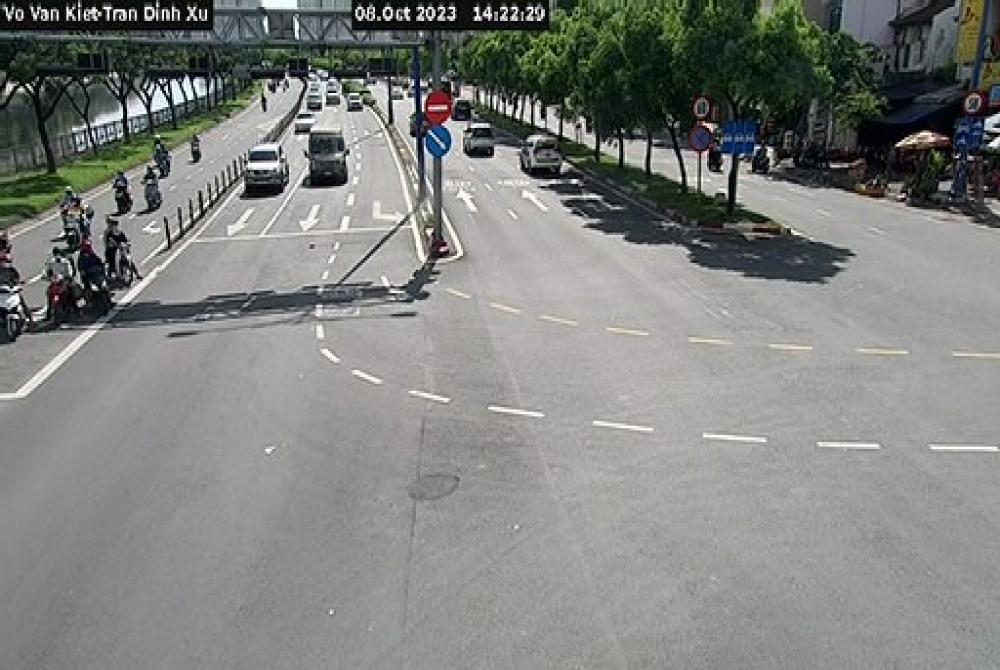car: (299, 124, 357, 194), (244, 130, 291, 199)
